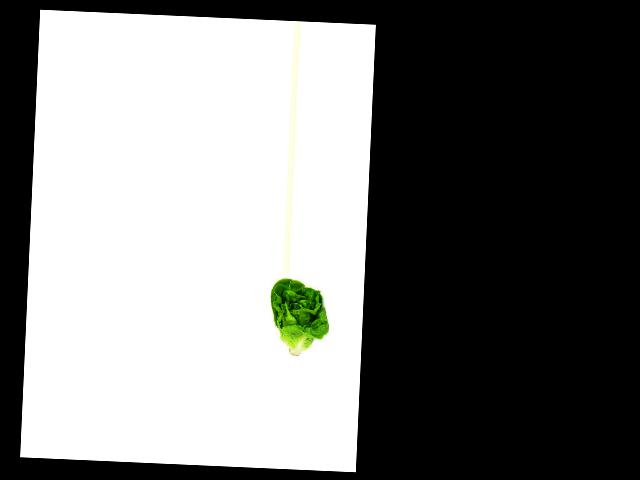lettuce: (266, 277, 335, 360)
